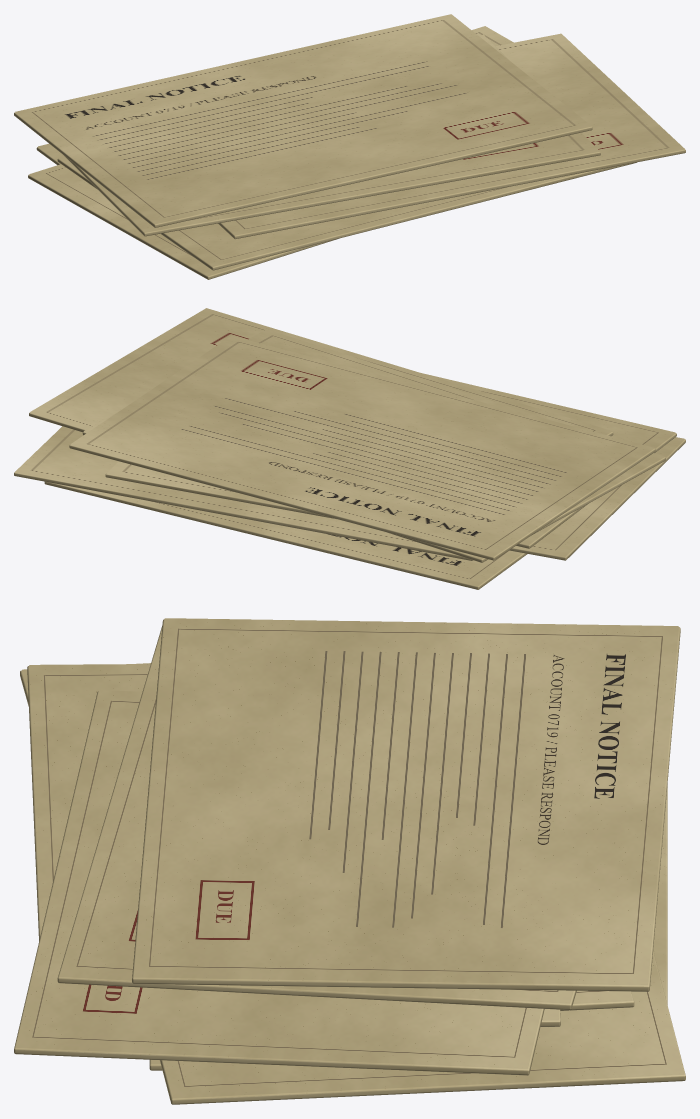
Rendered from pile_of_mail.glb.
The picture shows the model from 3 angles, top to bottom: view 1: azimuth 30°, elevation 25°; view 2: azimuth 150°, elevation 25°; view 3: azimuth 270°, elevation 25°; orthographic projection. The views are drawn at different scales.
Parts seen in each view (by area): view 1: Printed letter face.006, Printed letter face.004, Printed letter face.005, Printed letter face.003, Printed letter face.002, Folded envelope.006, Folded envelope.005, Folded envelope.003, Folded envelope.004, Folded envelope.002; view 2: Printed letter face.006, Printed letter face.004, Printed letter face.001, Printed letter face, Printed letter face.002, Printed letter face.005, Folded envelope.006, Printed letter face.003, Folded envelope, Folded envelope.001, Folded envelope.002, Folded envelope.005 (+1 smaller); view 3: Printed letter face.006, Printed letter face.004, Printed letter face.001, Printed letter face.005, Printed letter face.003, Folded envelope.006, Folded envelope.004, Folded envelope.005, Folded envelope.001, Printed letter face, Folded envelope.003, Folded envelope.
Boxes of the visible parts, x1=… form: Printed letter face.006: x1=15, y1=14, x2=590, y2=223; Printed letter face.004: x1=222, y1=33, x2=684, y2=234; Printed letter face.005: x1=88, y1=34, x2=599, y2=231; Printed letter face.003: x1=59, y1=156, x2=570, y2=265; Printed letter face.002: x1=29, y1=164, x2=266, y2=275; Folded envelope.006: x1=14, y1=112, x2=592, y2=227; Folded envelope.005: x1=63, y1=151, x2=600, y2=236; Folded envelope.003: x1=57, y1=158, x2=636, y2=270; Folded envelope.004: x1=218, y1=149, x2=685, y2=239; Folded envelope.002: x1=28, y1=174, x2=338, y2=279; Printed letter face.006: x1=71, y1=336, x2=653, y2=555; Printed letter face.004: x1=30, y1=308, x2=611, y2=434; Printed letter face.001: x1=15, y1=426, x2=446, y2=551; Printed letter face: x1=79, y1=488, x2=522, y2=585; Printed letter face.002: x1=107, y1=437, x2=684, y2=556; Printed letter face.005: x1=84, y1=329, x2=664, y2=558; Folded envelope.006: x1=69, y1=444, x2=655, y2=560; Printed letter face.003: x1=421, y1=373, x2=675, y2=544; Folded envelope: x1=44, y1=481, x2=527, y2=589; Folded envelope.001: x1=14, y1=471, x2=472, y2=560; Folded envelope.002: x1=105, y1=439, x2=685, y2=560; Folded envelope.005: x1=82, y1=431, x2=665, y2=562; Printed letter face.006: x1=134, y1=618, x2=678, y2=984; Printed letter face.004: x1=16, y1=690, x2=541, y2=1067; Printed letter face.001: x1=163, y1=955, x2=683, y2=1097; Printed letter face.005: x1=59, y1=631, x2=572, y2=1002; Printed letter face.003: x1=29, y1=664, x2=558, y2=1019; Folded envelope.006: x1=132, y1=619, x2=680, y2=991; Folded envelope.004: x1=14, y1=691, x2=544, y2=1075; Folded envelope.005: x1=57, y1=626, x2=576, y2=1010; Folded envelope.001: x1=160, y1=951, x2=685, y2=1104; Printed letter face: x1=151, y1=808, x2=665, y2=1062; Folded envelope.003: x1=27, y1=666, x2=560, y2=1026; Folded envelope: x1=149, y1=785, x2=667, y2=1070.
Bounding box in the file's own units: 0.2753 × 0.0206 × 0.1751.
Materials: 5 (4 with a texture image).
